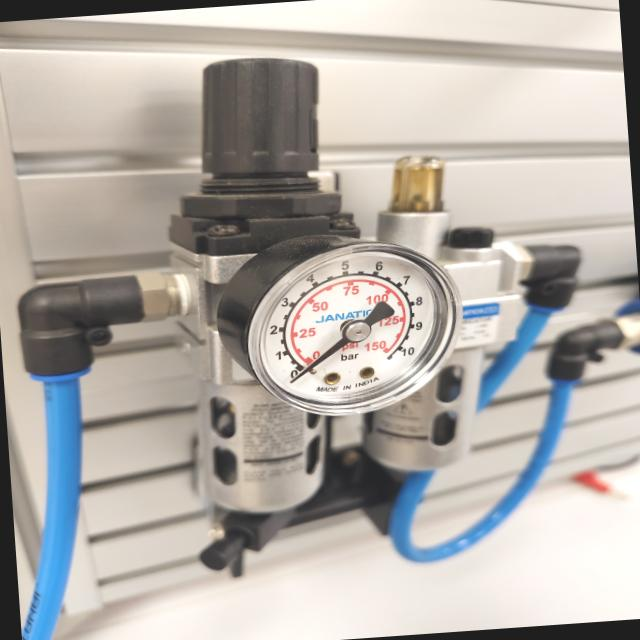FRL unit: (0, 29, 605, 599)
push button: (210, 223, 470, 424)
